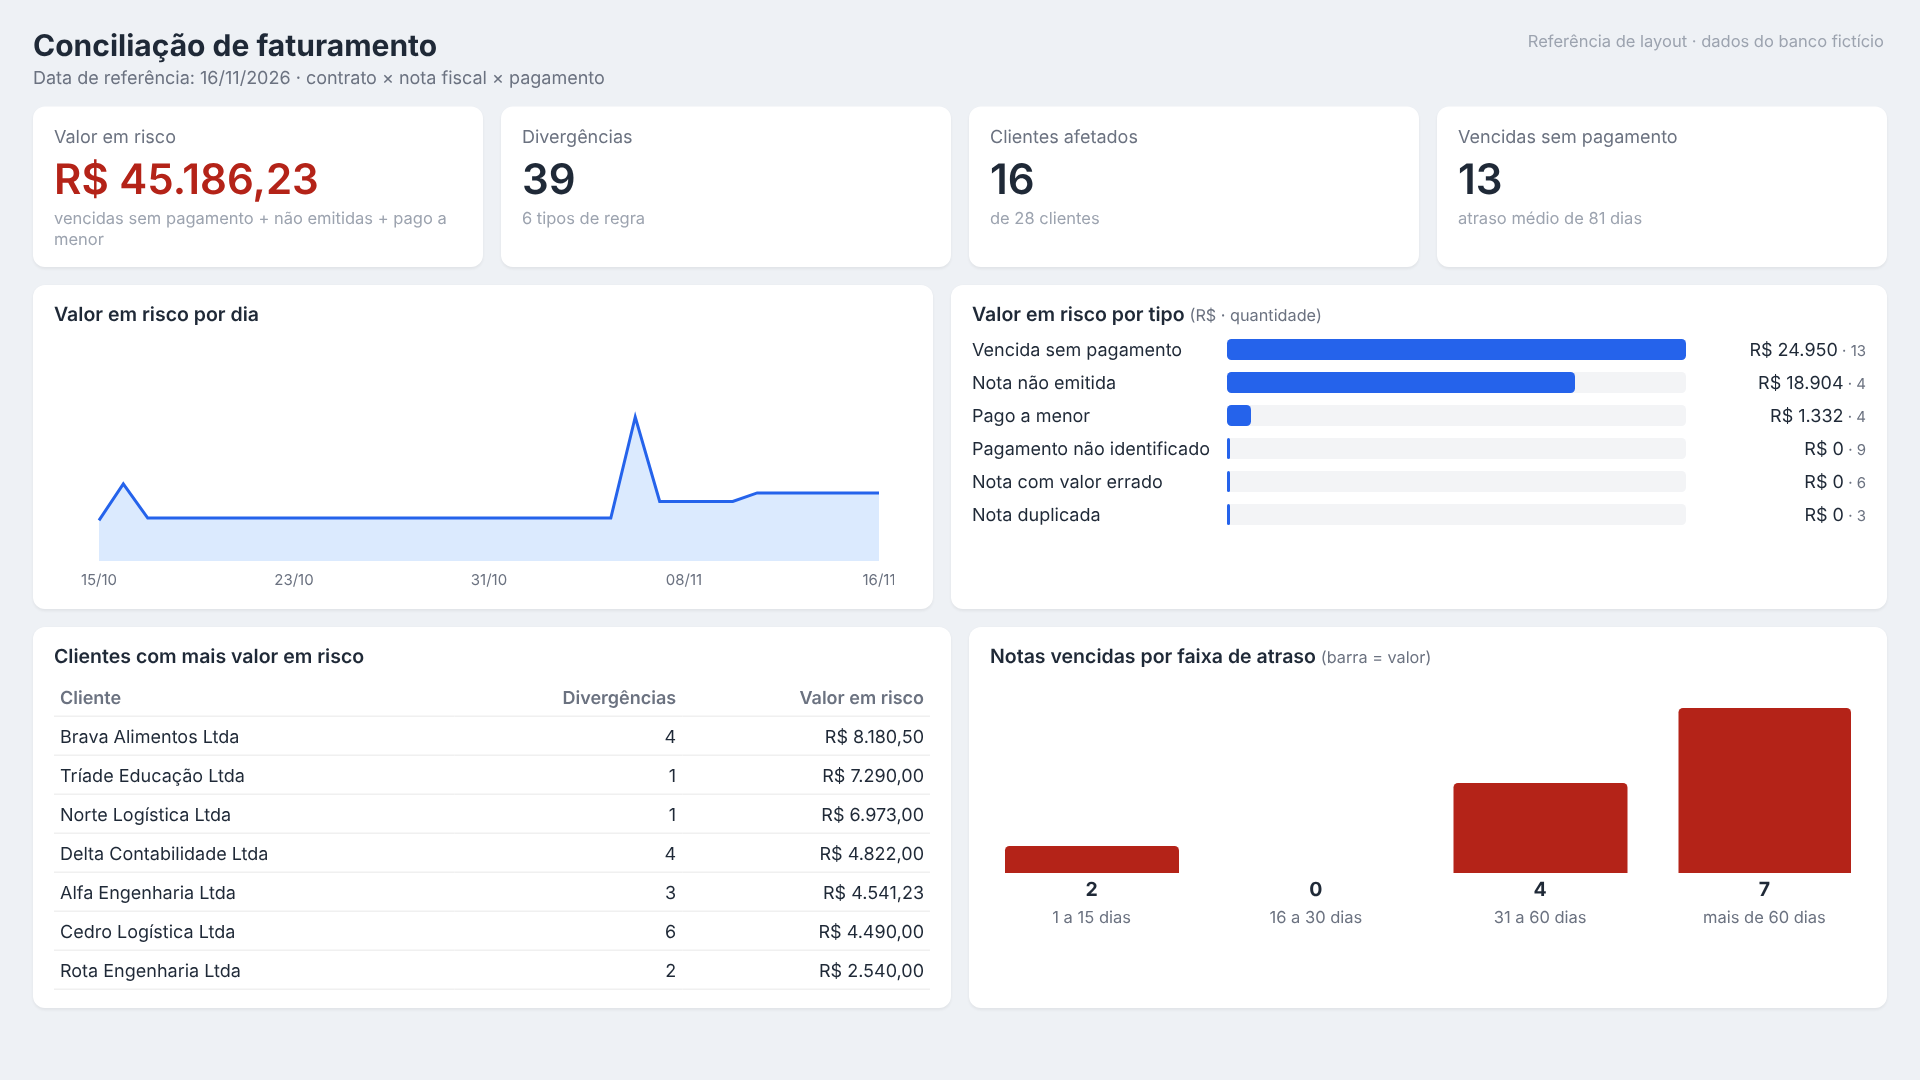

Layout of this report page (visuals, bound fields, positions):
{"tool":"powerbi","page":{"name":"Página 1","canvas":[1920,1080],"ordinal":0},"visuals":[{"type":"cardVisual","title":"Conciliação de faturamento · 16/11/2026","fields":{"Data":["vw_bi_divergencias.Valor em Risco","vw_bi_divergencias.Clientes afetados","vw_bi_divergencias.Divergências","vw_bi_divergencias.Vencidas sem pagamento"]},"box":[16.5,0,1887,237.5],"z":0},{"type":"areaChart","title":"Valor em risco por dia","fields":{"Category":["vw_bi_historico.data_base.Variação.Hierarquia de datas.Ano","vw_bi_historico.data_base.Variação.Hierarquia de datas.Trimestre","vw_bi_historico.data_base.Variação.Hierarquia de datas.Mês","vw_bi_historico.data_base.Variação.Hierarquia de datas.Dia"],"Y":["vw_bi_divergencias.Risco no histórico"]},"box":[13.2,263.9,928.7,263.9],"z":1000},{"type":"clusteredBarChart","title":"Valor em risco por tipo","fields":{"Category":["vw_bi_divergencias.tipo_descricao"],"Y":["vw_bi_divergencias.Valor em Risco"]},"box":[973.2,263.9,946.8,255.7],"z":2000},{"type":"tableEx","title":"Clientes com mais valor em risco","fields":{"Values":["vw_bi_divergencias.cliente","vw_bi_divergencias.Divergências","vw_bi_divergencias.Valor em Risco"]},"box":[6.6,539.4,953.4,501.4],"z":3000},{"type":"clusteredColumnChart","title":"Notas vencidas por faixa de atraso","fields":{"Category":["vw_bi_divergencias.faixa_atraso"],"Y":["vw_bi_divergencias.Valor em Risco"]},"box":[973.2,539.4,946.8,503.1],"z":4000}]}

Visuals, with their boxes in screenshot pixels (x1, y1, x2, y2), scaled from the page's 1920x1080 canvas onto the 1920x1080 screenshot:
"Conciliação de faturamento · 16/11/2026" cardVisual: <bbox>16, 0, 1904, 238</bbox>
"Valor em risco por dia" areaChart: <bbox>13, 264, 942, 528</bbox>
"Valor em risco por tipo" clusteredBarChart: <bbox>973, 264, 1919, 520</bbox>
"Clientes com mais valor em risco" tableEx: <bbox>7, 539, 960, 1041</bbox>
"Notas vencidas por faixa de atraso" clusteredColumnChart: <bbox>973, 539, 1919, 1042</bbox>
